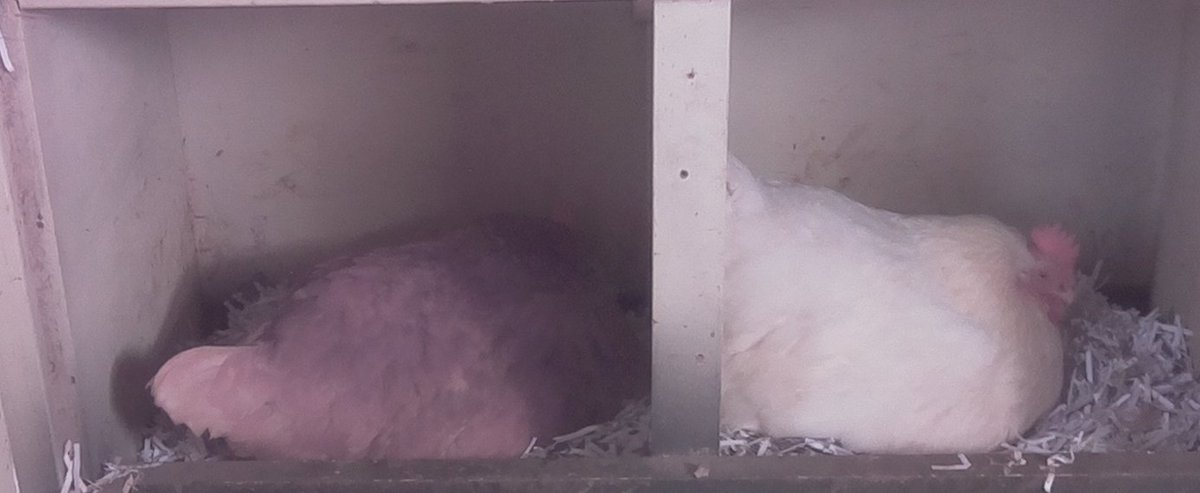hen: (140, 210, 649, 458), (722, 152, 1091, 448)
